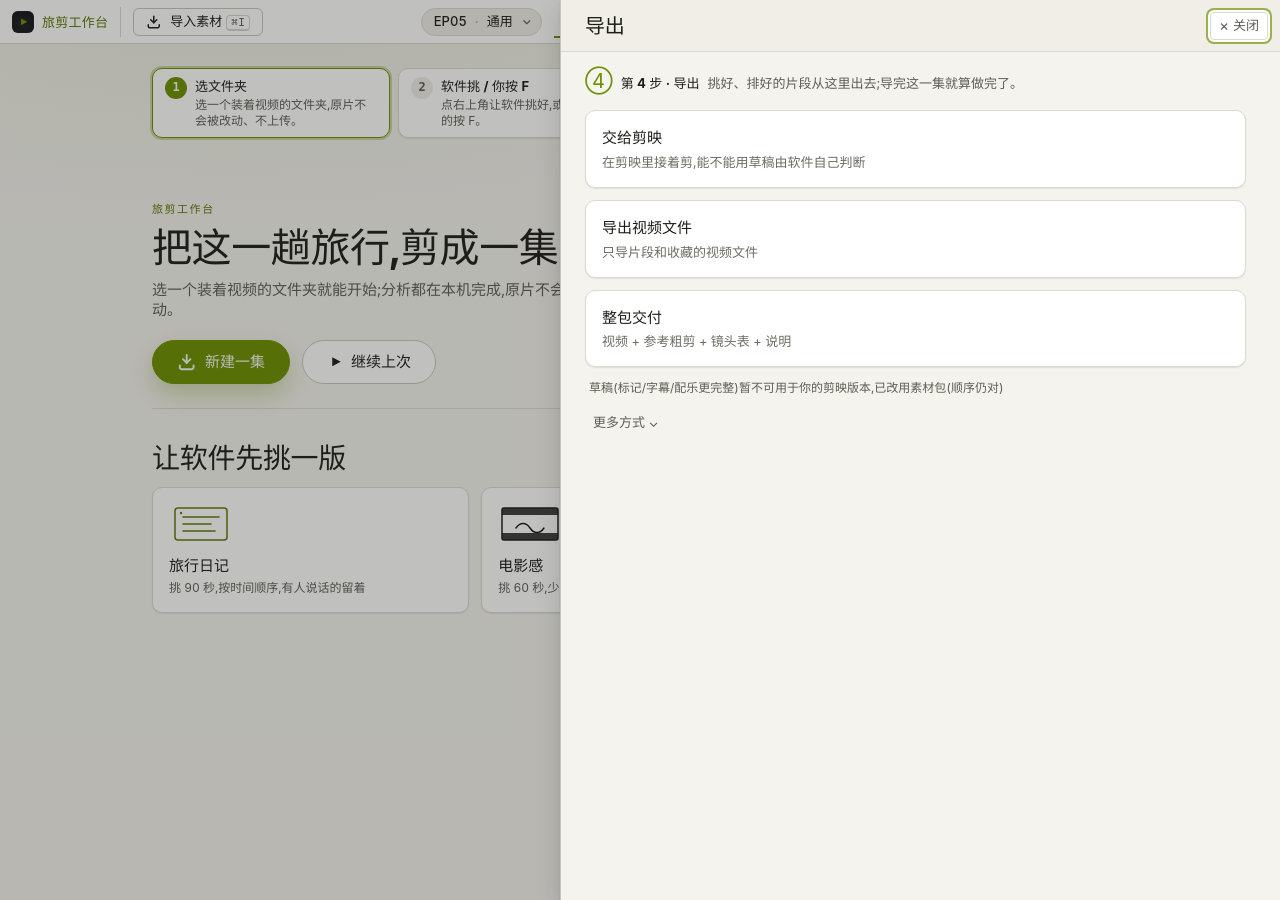
Test: 交付抽屉首屏三卡(U-06/P-04) › 点「导出视频文件」直接落在快速导出清单
Step 1. Click the button "导出视频文件 只导片段和收藏的视频文件" → click(647, 227), box [585, 200, 1246, 278]
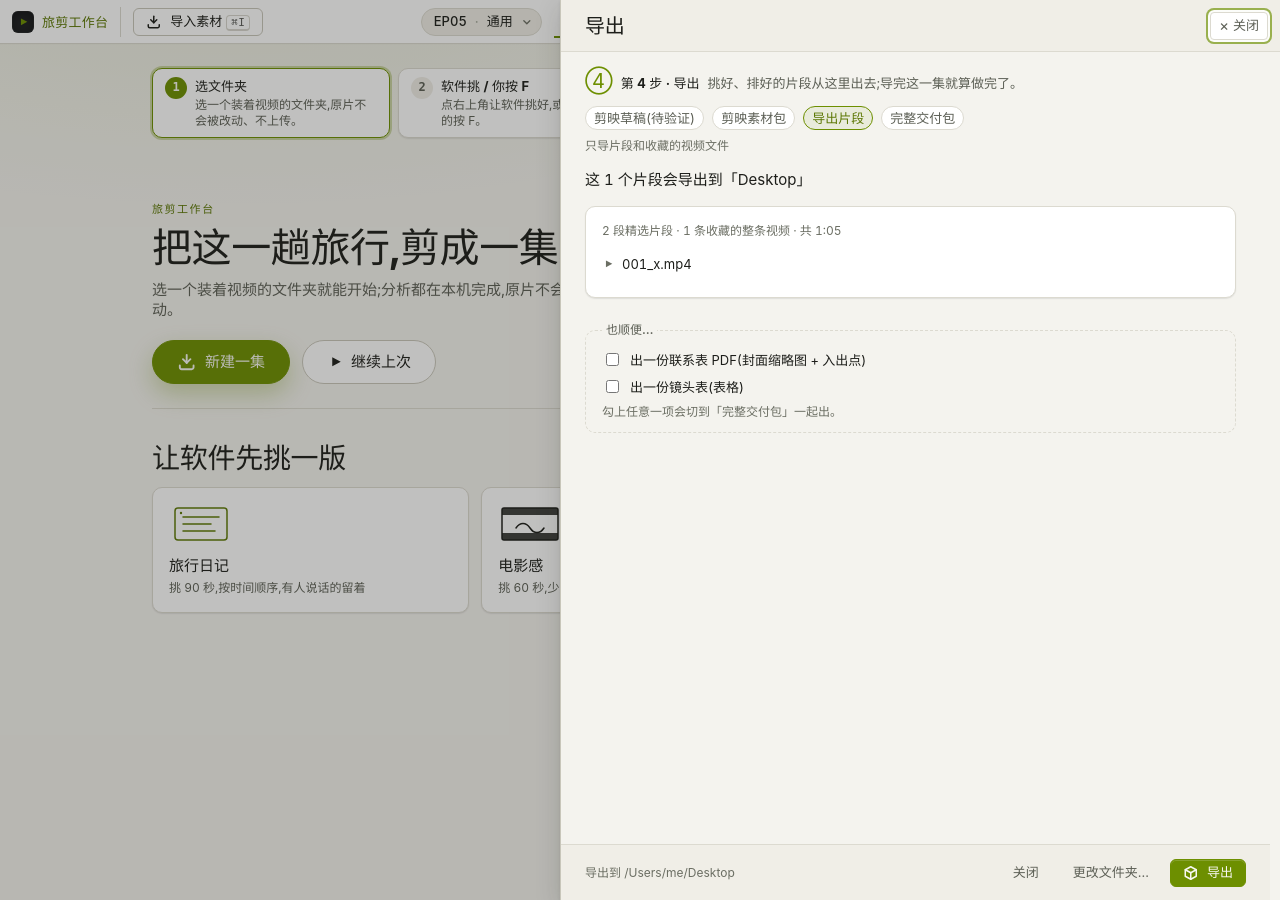
Now the text "001_x.mp4" is shown, box [622, 255, 692, 273]
